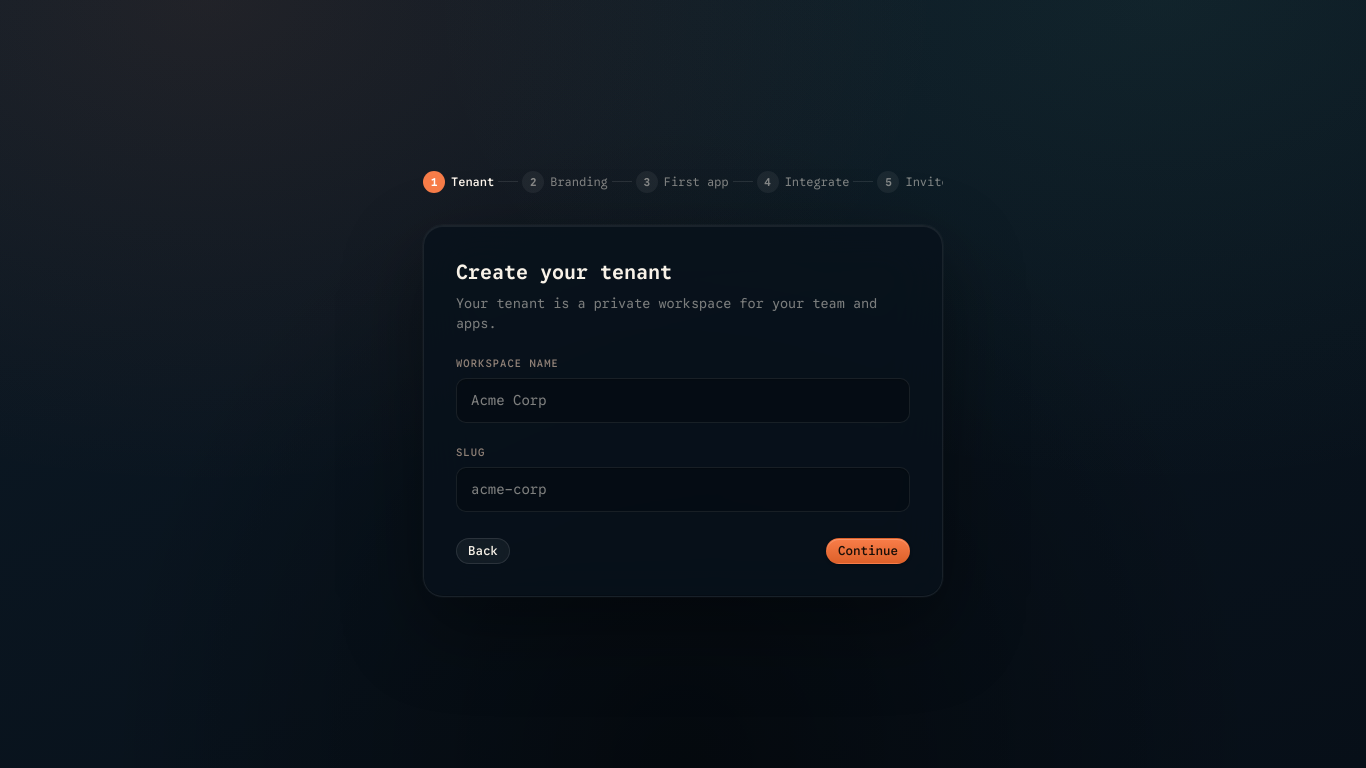
advances through steps on continue
Click the button "Continue".
click(868, 551)  # box top-left (826, 538), bottom-right (910, 564)
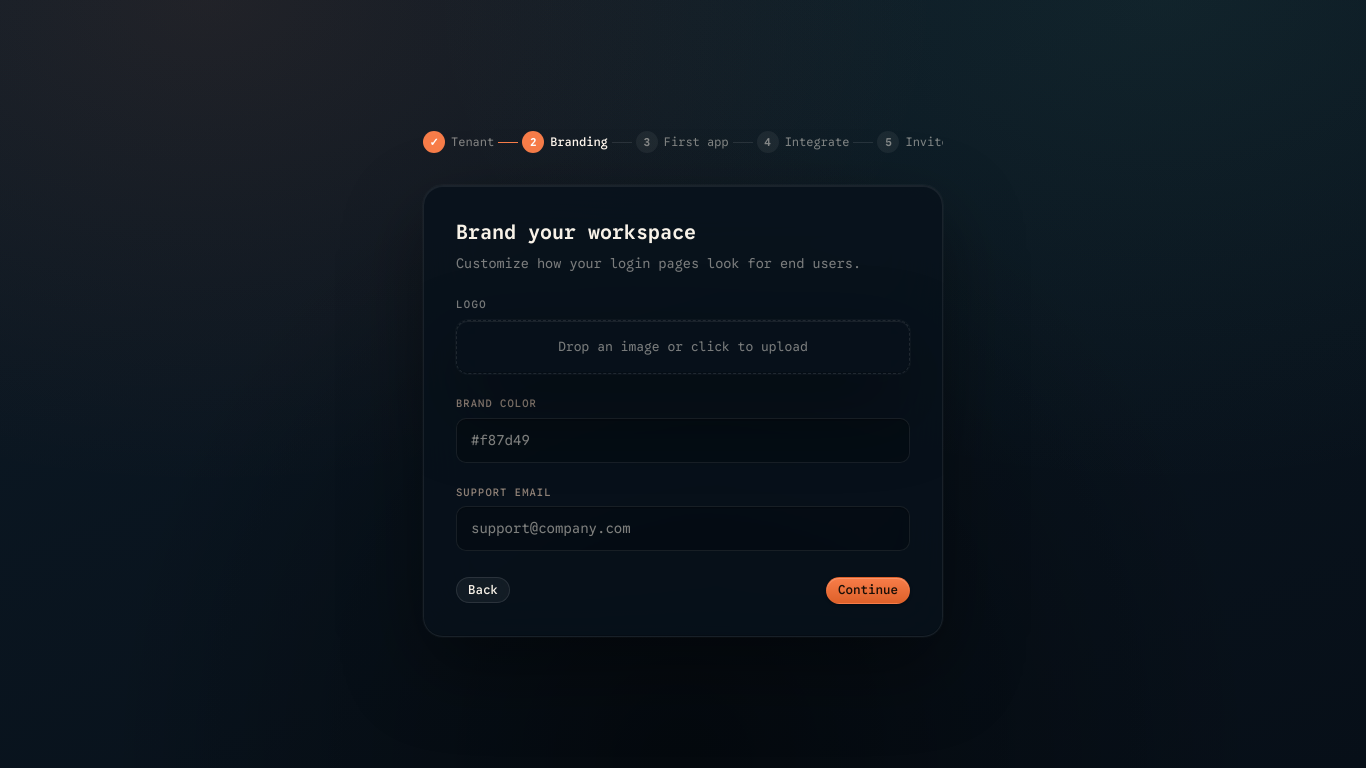
Result: the heading "Brand your workspace" is shown at top-left (456, 220), bottom-right (696, 245)
Click the button "Continue".
click(868, 591)  # box top-left (826, 577), bottom-right (910, 604)
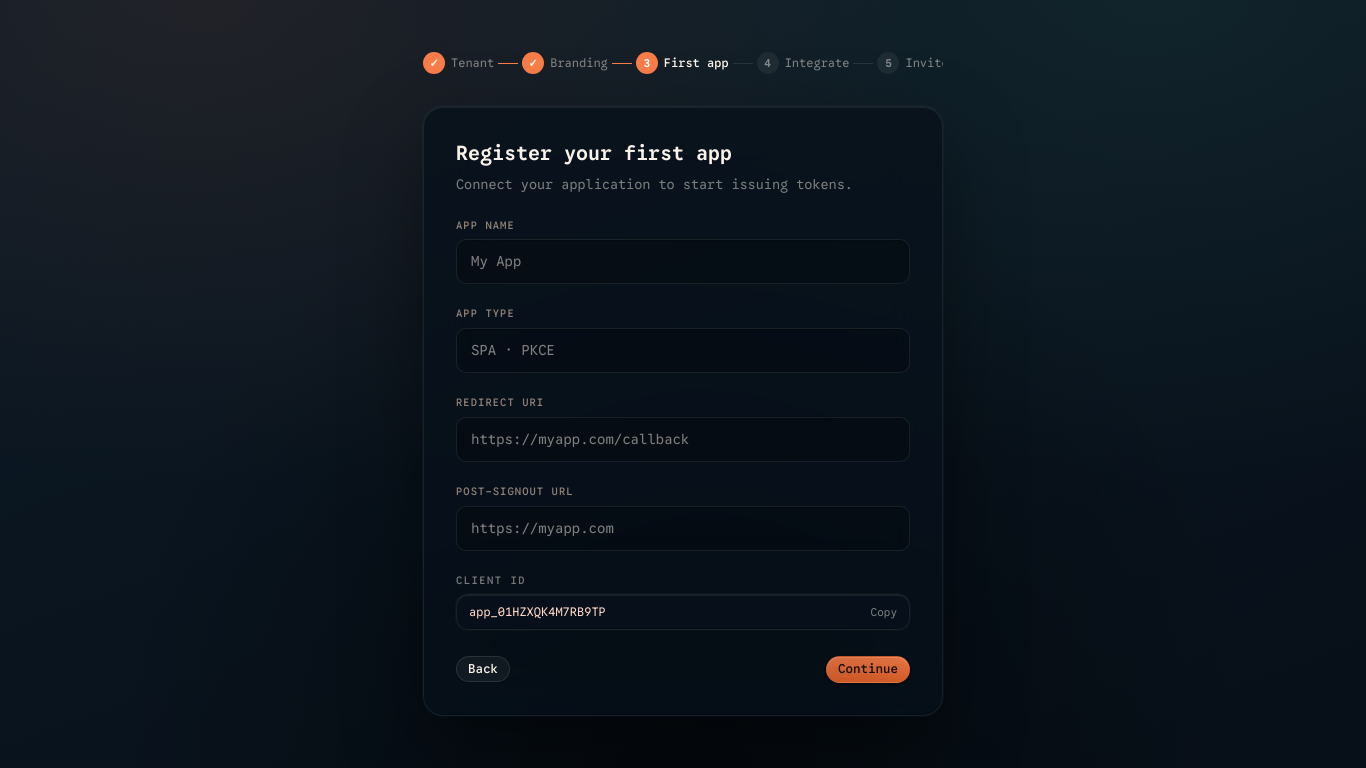
Result: the heading "Register your first app" is shown at top-left (456, 141), bottom-right (732, 166)
